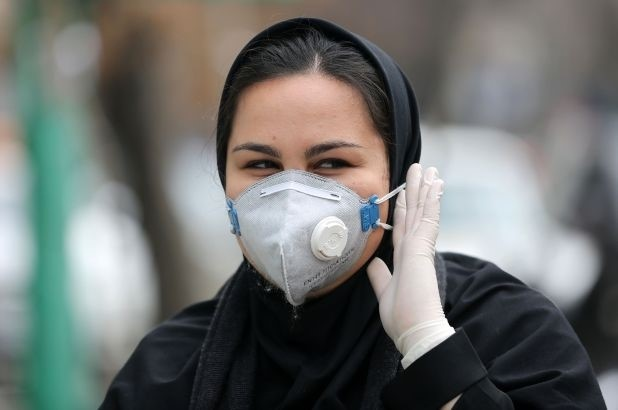face_with_mask: (212, 17, 428, 307)
